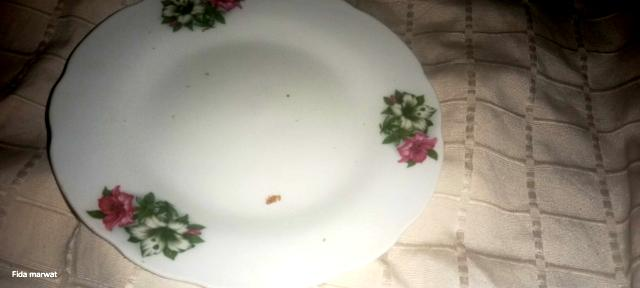Plate: (49, 0, 444, 287)
